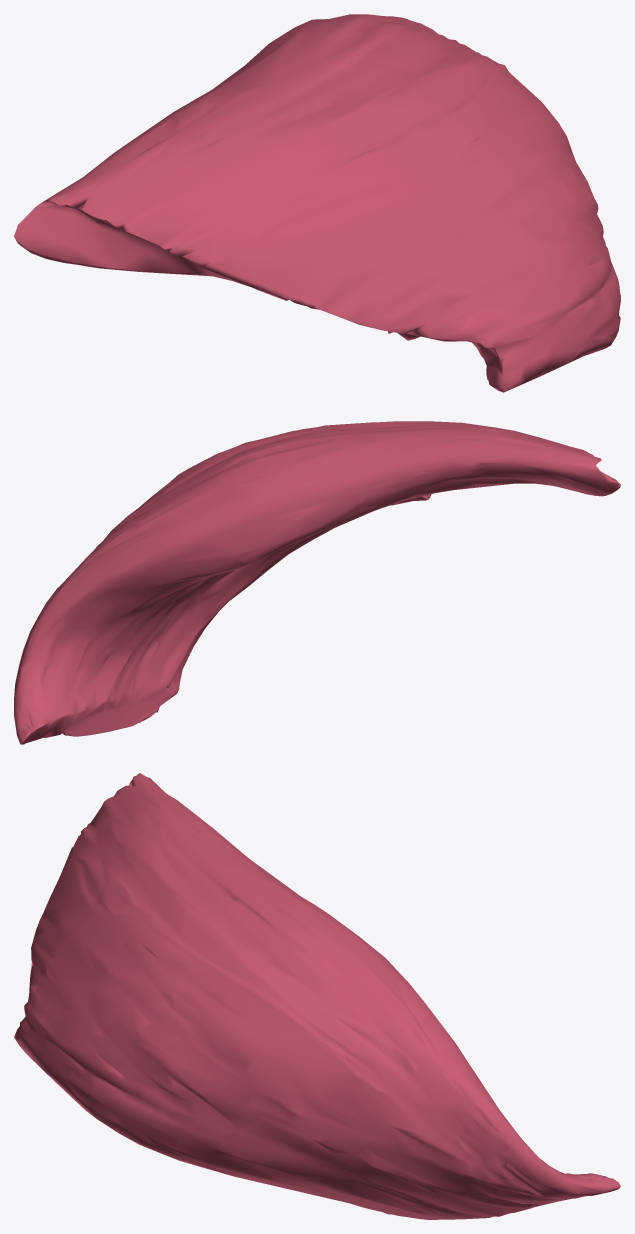
The picture shows the model from 3 angles, top to bottom: view 1: azimuth 30°, elevation 25°; view 2: azimuth 150°, elevation 25°; view 3: azimuth 270°, elevation 25°; orthographic projection. The views are drawn at different scales.
Visible parts, largest first — view 1: 左侧三角肌肩胛冈部; view 2: 左侧三角肌肩胛冈部; view 3: 左侧三角肌肩胛冈部.
Boxes of the visible parts, x1,y1,x2,y2 form: 左侧三角肌肩胛冈部: (14,14,620,392); 左侧三角肌肩胛冈部: (14,421,620,744); 左侧三角肌肩胛冈部: (14,773,620,1219).
Size of the model in its own units: 0.2015 by 0.118 by 0.2305.
